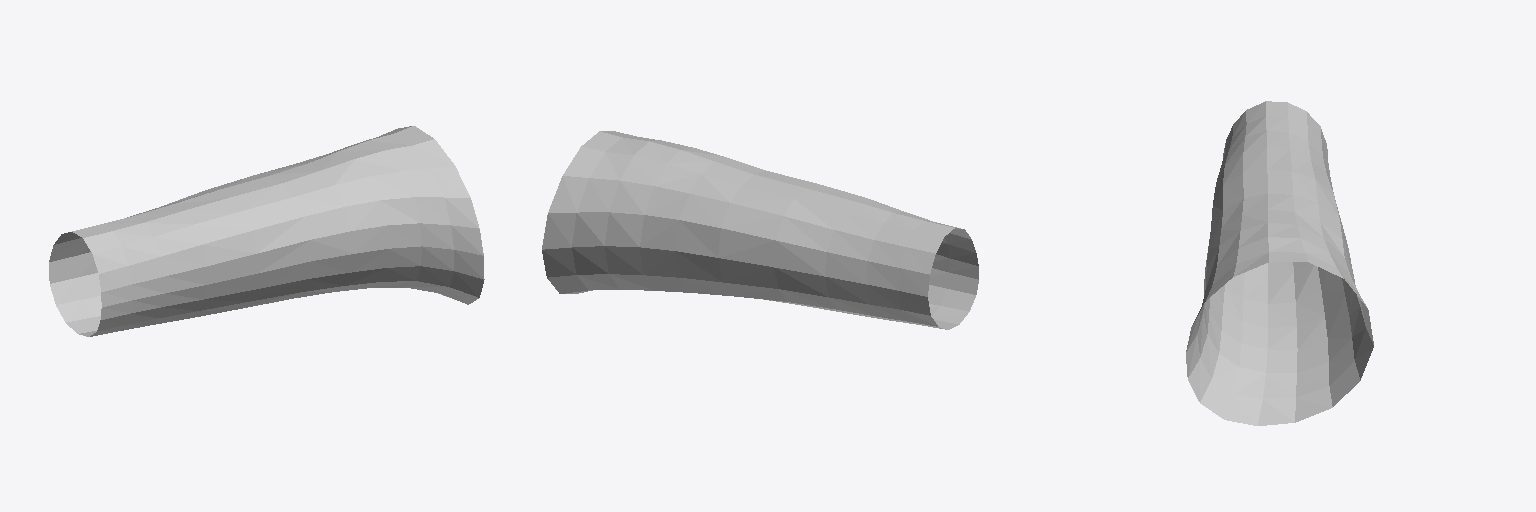
File: upperArmR.obj
The picture shows the model from 3 angles: view 1: azimuth 30°, elevation 25°; view 2: azimuth 150°, elevation 25°; view 3: azimuth 270°, elevation 25°; orthographic projection.
Visible parts, largest first — view 1: Ch46.005_Mesh.005; view 2: Ch46.005_Mesh.005; view 3: Ch46.005_Mesh.005.
Boxes of the visible parts, x1,y1,x2,y2 form: Ch46.005_Mesh.005: [49, 126, 484, 336]; Ch46.005_Mesh.005: [542, 131, 978, 329]; Ch46.005_Mesh.005: [1186, 101, 1373, 425].
Size of the model in its own units: 1.06 by 0.4354 by 0.4657.